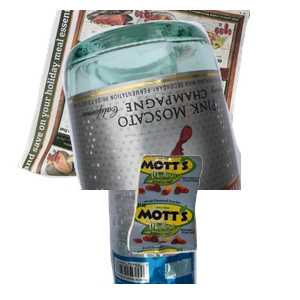glass: (60, 17, 300, 197)
paper: (14, 10, 254, 190)
plastic: (96, 120, 285, 300)
trash: (125, 152, 300, 300)
